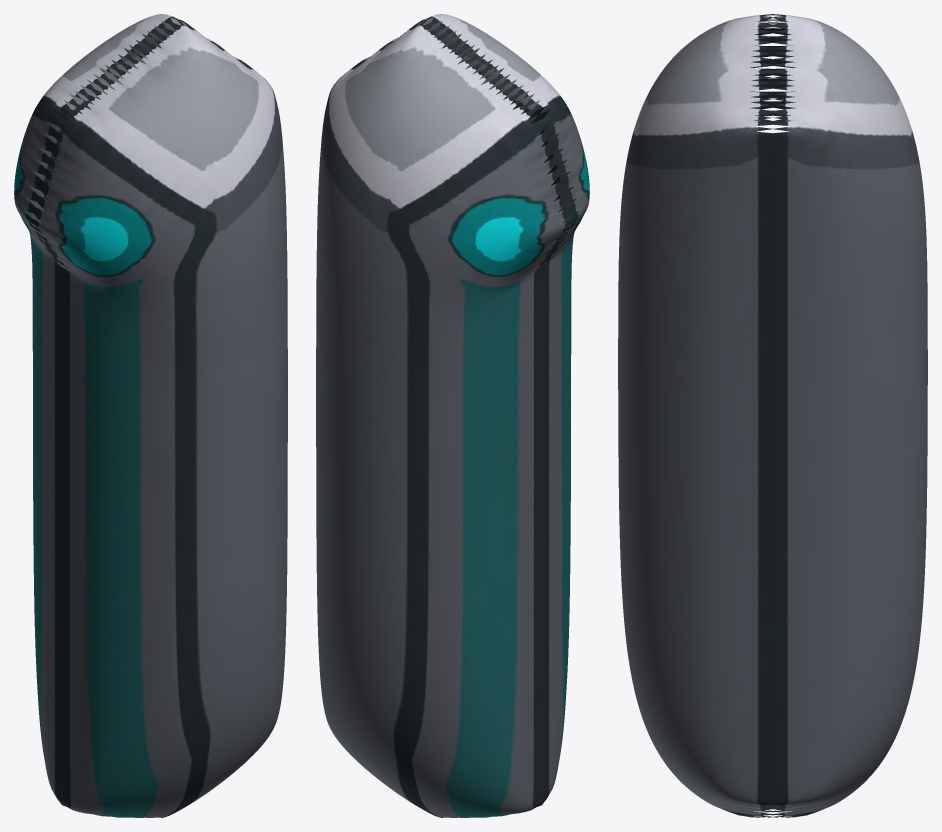
File: rim_post.glb
3 renders of one model, left to right at view 1: azimuth 30°, elevation 25°; view 2: azimuth 150°, elevation 25°; view 3: azimuth 270°, elevation 25°, orthographic. The views are drawn at different scales.
Visible parts, largest first — view 1: rim_post; view 2: rim_post; view 3: rim_post.
Part boxes in pixels (x1,y1,x2,y2): rim_post: (14, 14, 287, 817); rim_post: (316, 14, 589, 817); rim_post: (618, 14, 927, 817).
Size of the model in its own units: 0.9642 by 3.15 by 1.08.
1 material, 1 textured.
